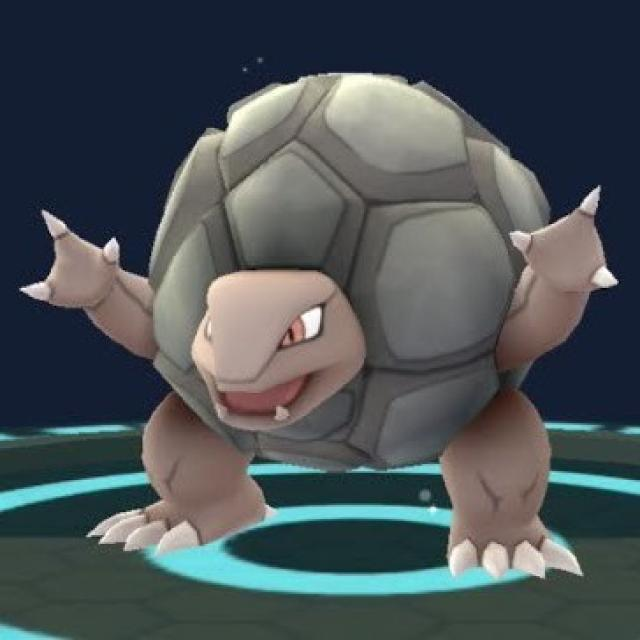Golem: (24, 78, 619, 582)
